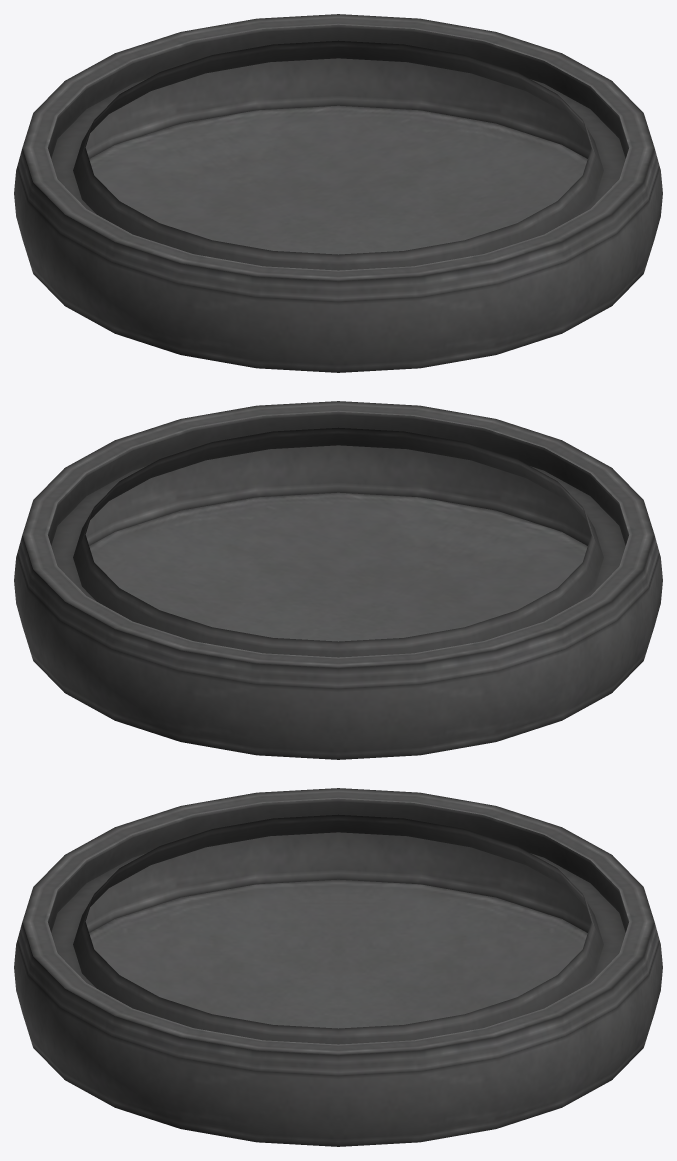
Rendered from metal short base.obj.
3 views of the same model, one above another, from view 1: azimuth 30°, elevation 25°; view 2: azimuth 150°, elevation 25°; view 3: azimuth 270°, elevation 25° (orthographic).
Parts seen in each view (by area): view 1: metal short base; view 2: metal short base; view 3: metal short base.
Part boxes in pixels (x1=…): metal short base: x1=14, y1=14, x2=662, y2=372; metal short base: x1=14, y1=401, x2=662, y2=759; metal short base: x1=14, y1=788, x2=662, y2=1146.
Size of the model in its own units: 0.9625 by 0.175 by 0.9625.
1 material, 1 textured.
